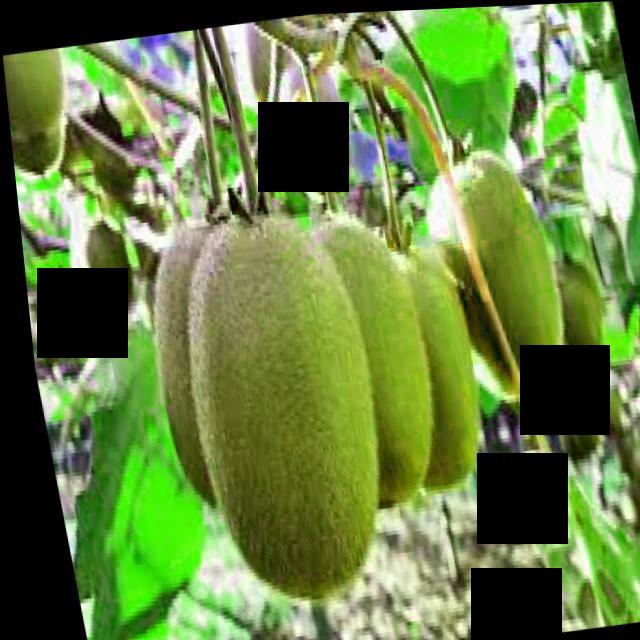kiwi: (149, 189, 409, 612), (118, 190, 292, 524), (276, 190, 450, 506), (406, 131, 576, 409), (355, 216, 489, 501), (264, 44, 363, 205), (4, 46, 82, 181), (538, 244, 614, 368), (239, 17, 316, 127), (4, 46, 80, 148), (75, 209, 136, 314), (554, 381, 599, 460), (620, 278, 640, 429), (628, 447, 640, 547)
